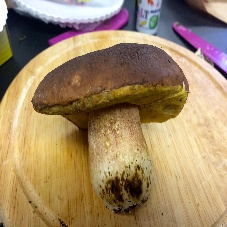mushroom: (32, 43, 193, 208)
